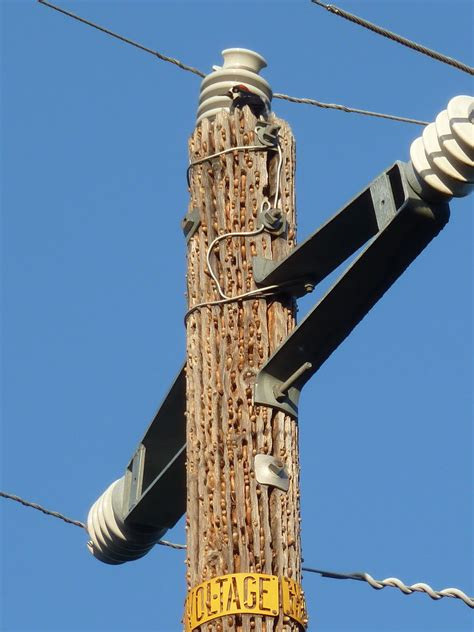pole: (31, 1, 465, 623)
